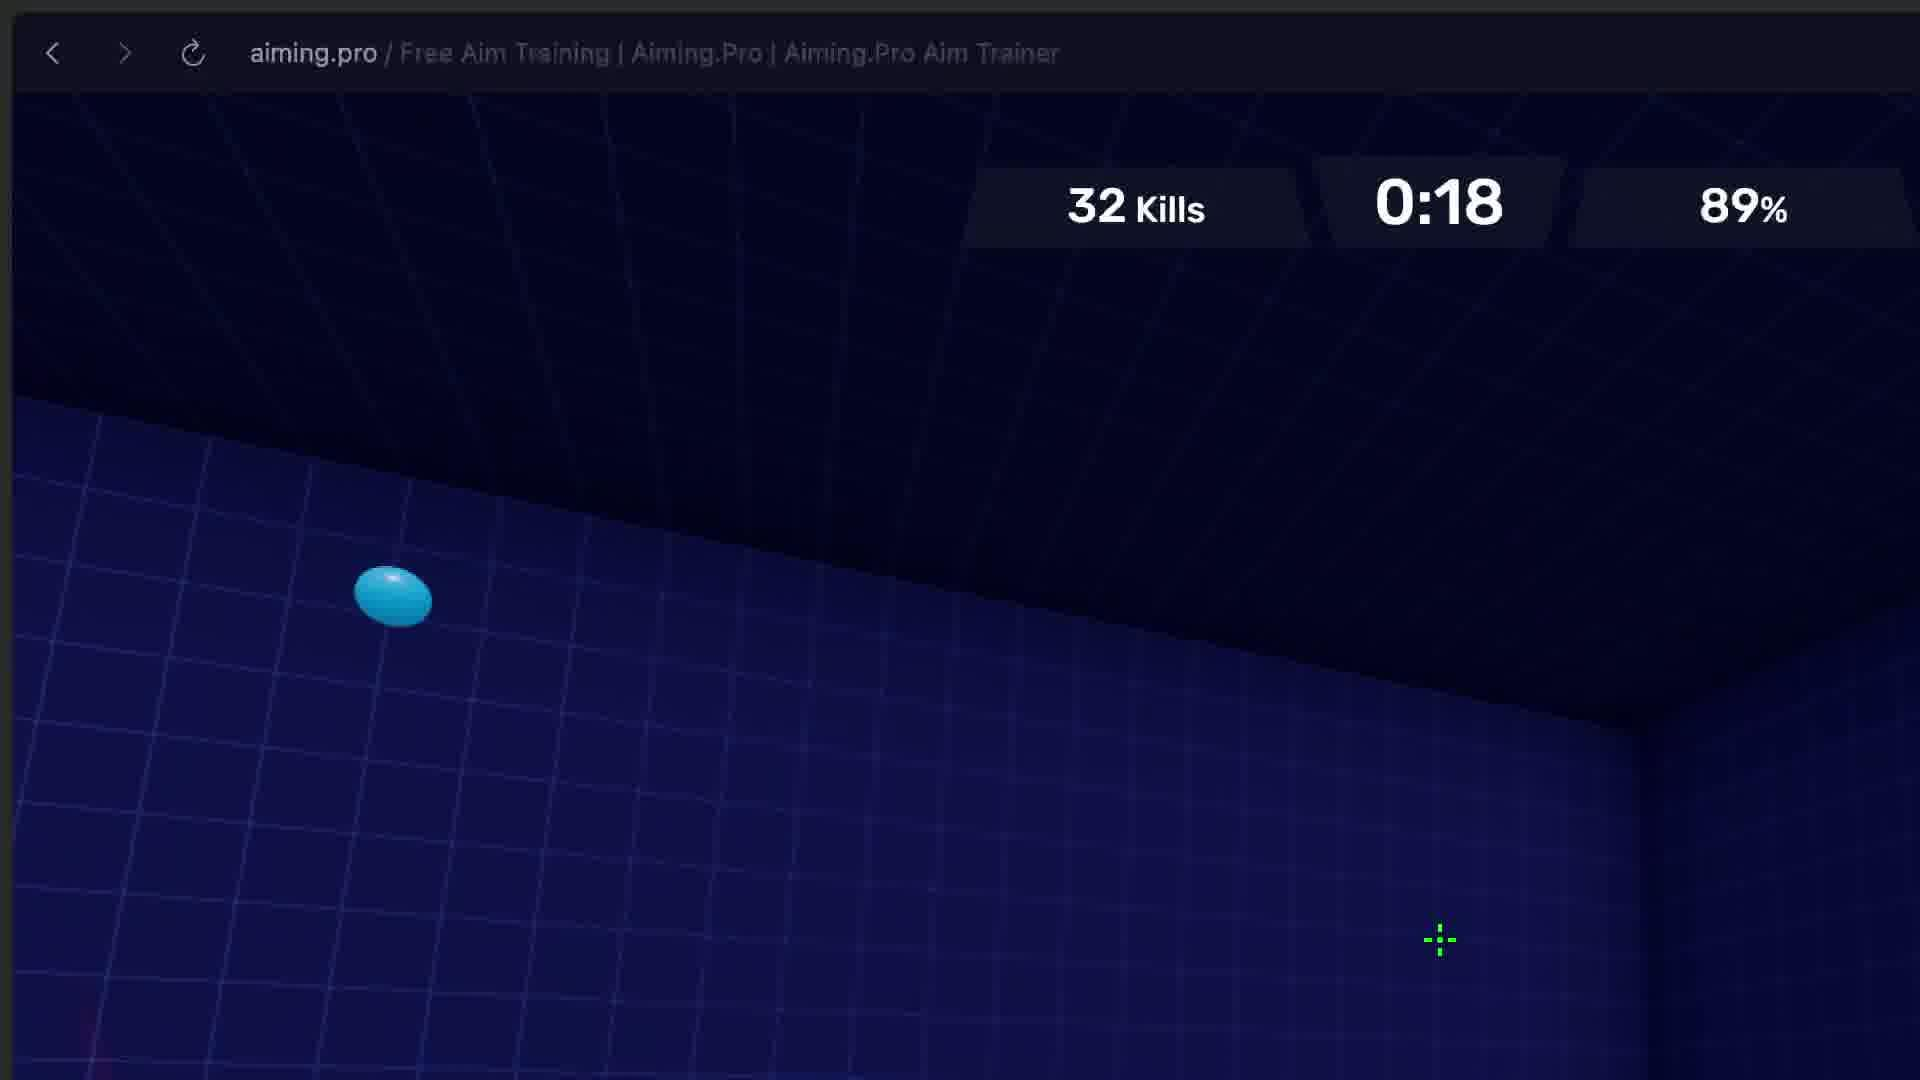target: (353, 567, 433, 628)
